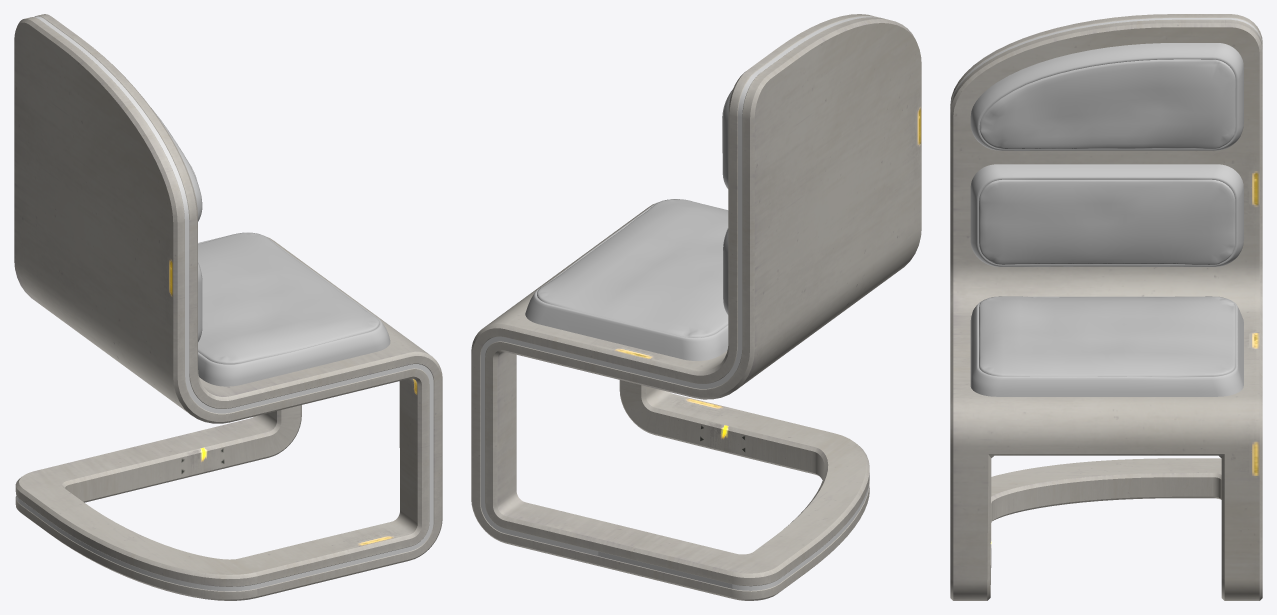
File: KB3D_MTM_PropChair_A.fbx
3 renders of one model, left to right at view 1: azimuth 30°, elevation 25°; view 2: azimuth 150°, elevation 25°; view 3: azimuth 270°, elevation 25°, orthographic. The views are drawn at different scales.
Visible parts, largest first — view 1: KB3D_MTM_PropChair_A_Main; view 2: KB3D_MTM_PropChair_A_Main; view 3: KB3D_MTM_PropChair_A_Main.
Boxes of the visible parts, x1,y1,x2,y2 form: KB3D_MTM_PropChair_A_Main: (14, 14, 442, 600); KB3D_MTM_PropChair_A_Main: (471, 14, 921, 600); KB3D_MTM_PropChair_A_Main: (950, 14, 1262, 600).
Bounding box in the file's own units: 74.19 × 125 × 74.8.
